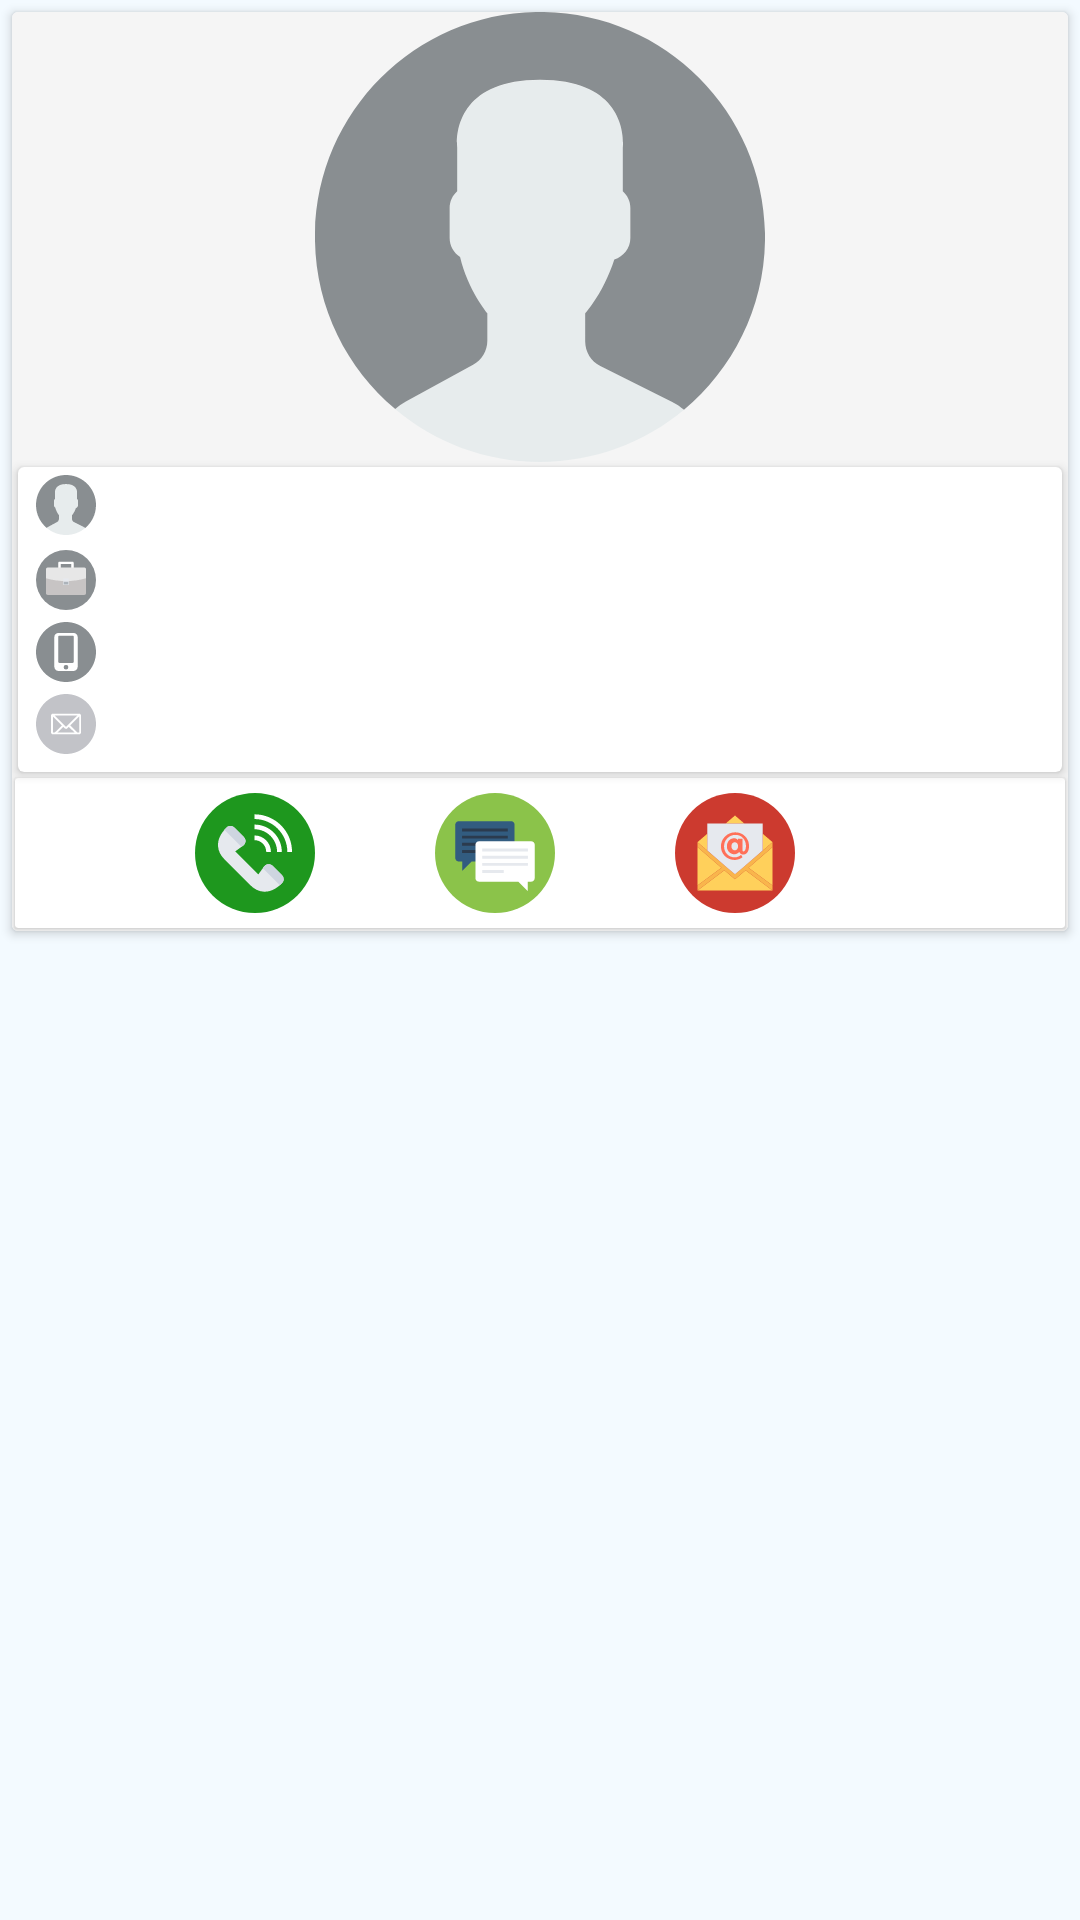

Screen size 1080 x 1920. Icon name, then its center in pixels as (x=x, y=y):
call: (x=255, y=853)
email: (x=735, y=853)
message: (x=495, y=853)
